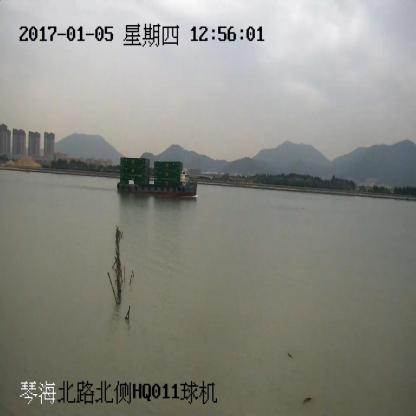Container Ship: (118, 158, 196, 199)
